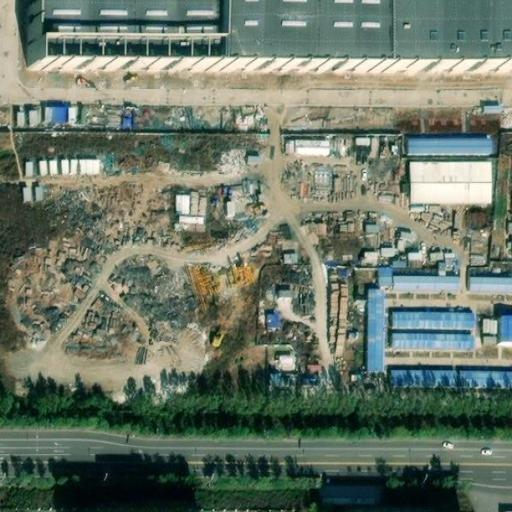building: (230, 0, 393, 55), (410, 162, 491, 202), (389, 370, 512, 389), (393, 311, 472, 330), (367, 288, 385, 371), (393, 333, 472, 349), (172, 190, 207, 226), (408, 139, 491, 154), (394, 275, 458, 292), (43, 101, 73, 124), (469, 277, 512, 290), (263, 308, 281, 329), (380, 269, 394, 288), (502, 316, 512, 341)
